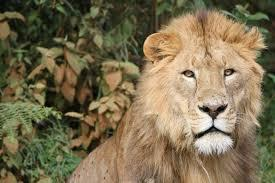Non_Gorille: (72, 3, 271, 183)
